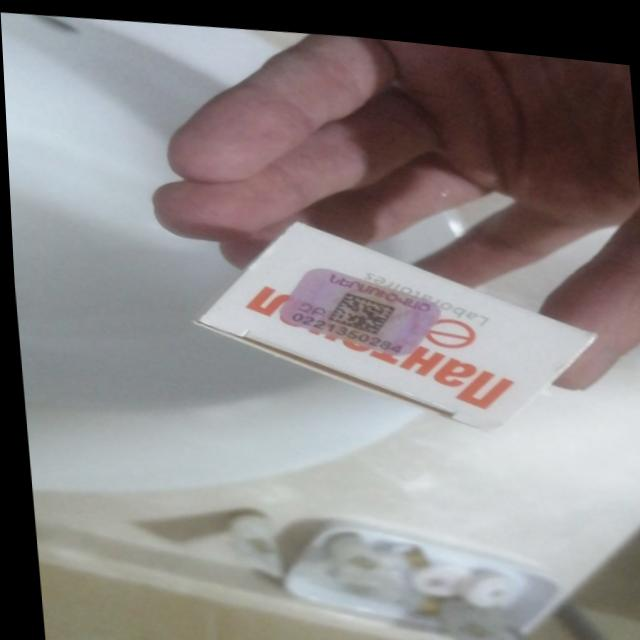datamatrix: (320, 280, 396, 332)
